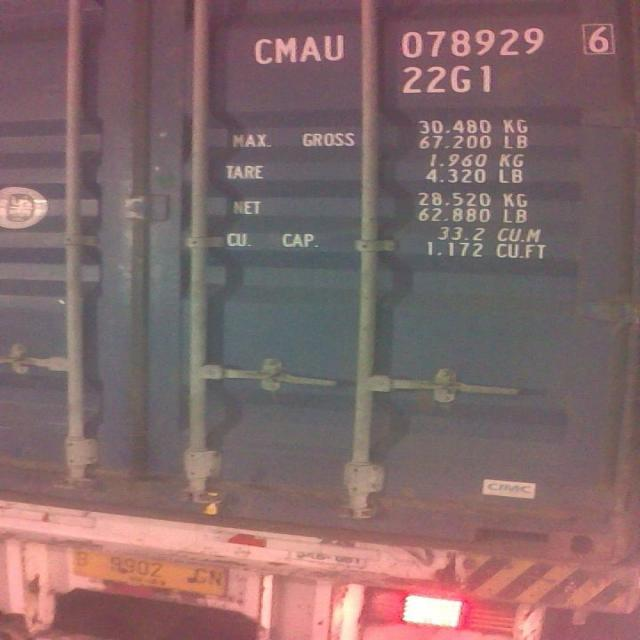seal: (203, 487, 228, 518)
